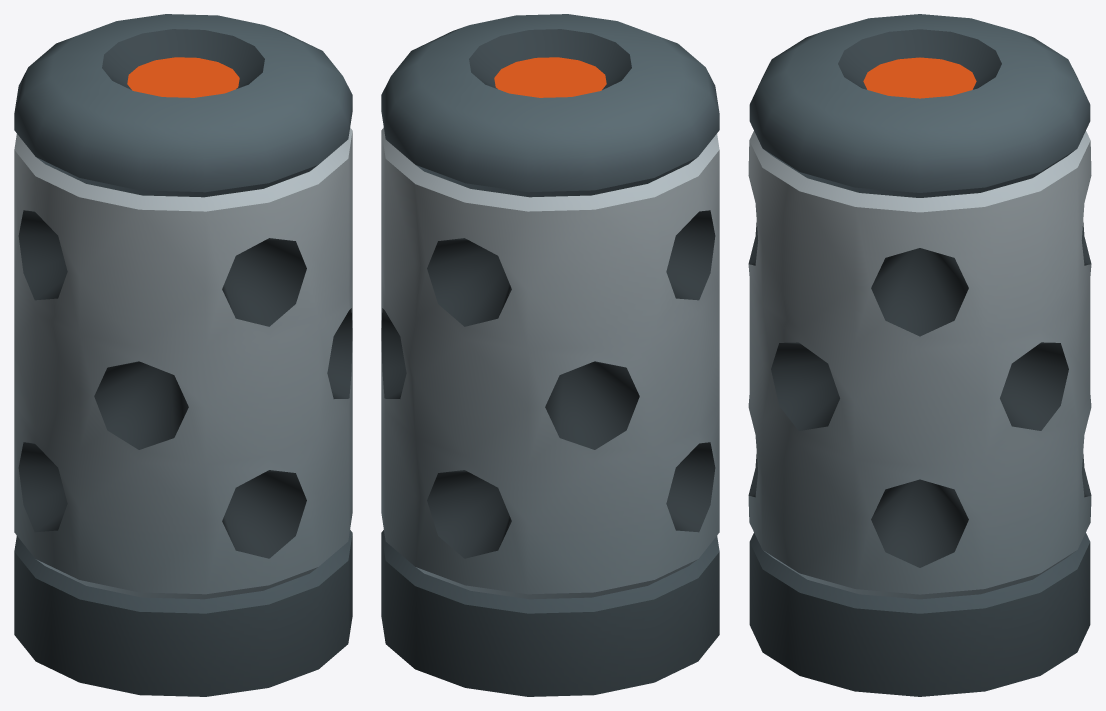
Rendered from obstacle_17_001.fbx.
3 renders of one model, left to right at view 1: azimuth 30°, elevation 25°; view 2: azimuth 150°, elevation 25°; view 3: azimuth 270°, elevation 25°, orthographic.
Parts seen in each view (by area): view 1: obstacle_17_001; view 2: obstacle_17_001; view 3: obstacle_17_001.
Boxes of the visible parts, x1,y1,x2,y2 form: obstacle_17_001: (14, 14, 352, 696); obstacle_17_001: (381, 14, 719, 696); obstacle_17_001: (748, 14, 1091, 696).
Size of the model in its own units: 171 by 171 by 308.
